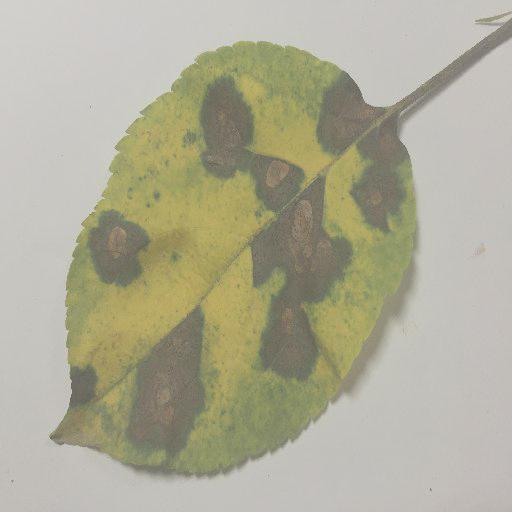Brown_Spot: (123, 339, 208, 457), (254, 208, 340, 284), (263, 306, 327, 380), (370, 128, 407, 221), (319, 83, 373, 146), (198, 99, 247, 166), (93, 225, 137, 279), (250, 151, 298, 193), (62, 362, 96, 413)
